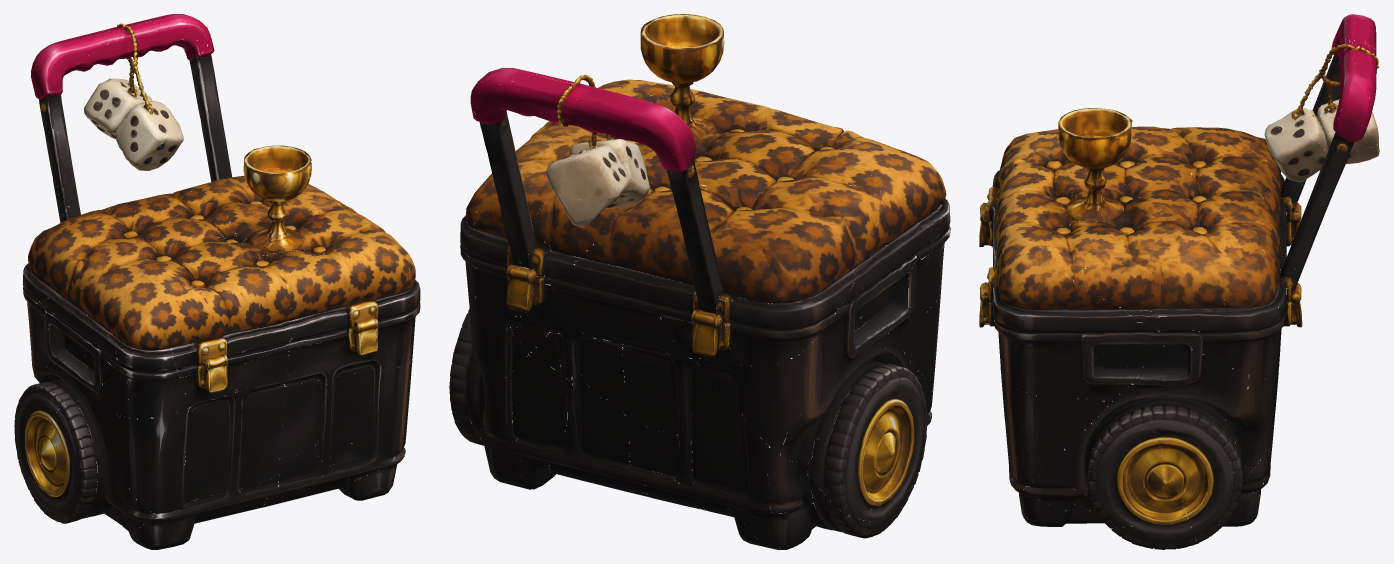
The model's file is cooler.glb.
3 renders of one model, left to right at view 1: azimuth 30°, elevation 25°; view 2: azimuth 150°, elevation 25°; view 3: azimuth 270°, elevation 25°, orthographic. The views are drawn at different scales.
Visible parts, largest first — view 1: tripo_node_a68e77a6-b1c8-44b2-93cd-0d8e2bf1b6e0; view 2: tripo_node_a68e77a6-b1c8-44b2-93cd-0d8e2bf1b6e0; view 3: tripo_node_a68e77a6-b1c8-44b2-93cd-0d8e2bf1b6e0.
Boxes of the visible parts, x1=… form: tripo_node_a68e77a6-b1c8-44b2-93cd-0d8e2bf1b6e0: x1=14, y1=14, x2=420, y2=549; tripo_node_a68e77a6-b1c8-44b2-93cd-0d8e2bf1b6e0: x1=449, y1=14, x2=950, y2=549; tripo_node_a68e77a6-b1c8-44b2-93cd-0d8e2bf1b6e0: x1=979, y1=14, x2=1379, y2=549.
Size of the model in its own units: 0.8917 by 1 by 0.8549.
1 material, 1 textured.
